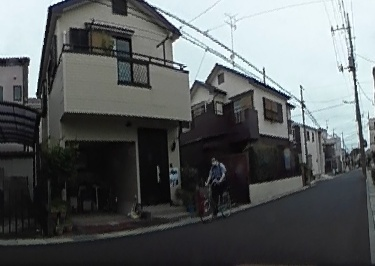person: (207, 155, 229, 214)
